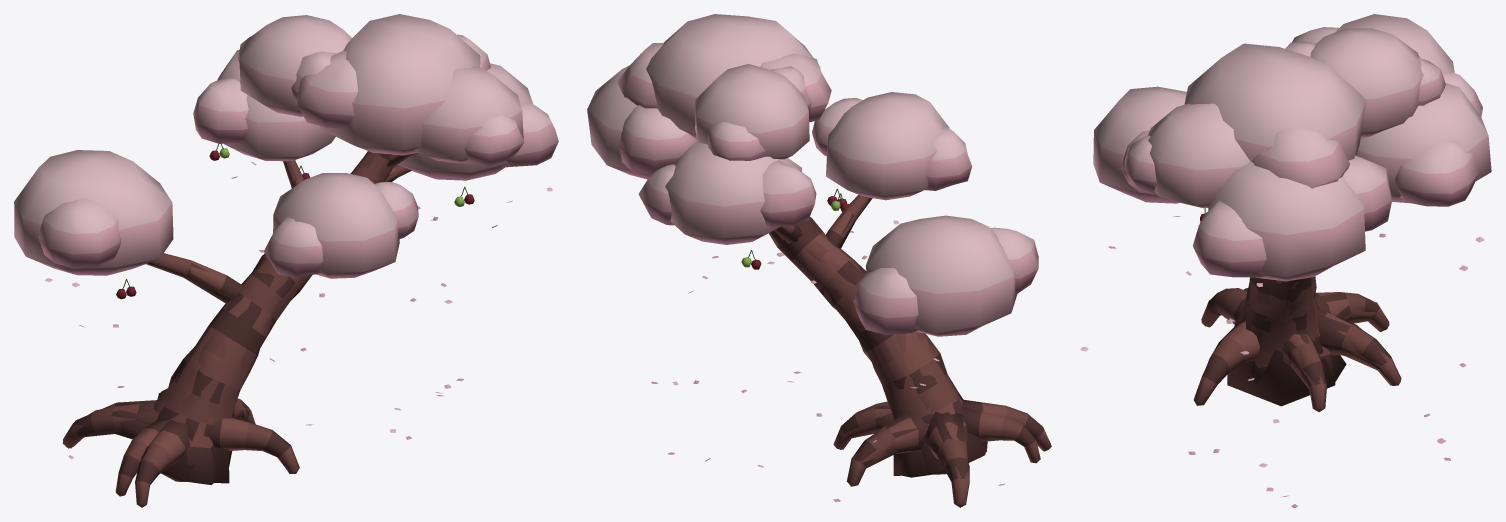
File: tree_cherry.glb
3 renders of one model, left to right at view 1: azimuth 30°, elevation 25°; view 2: azimuth 150°, elevation 25°; view 3: azimuth 270°, elevation 25°, orthographic. The views are drawn at different scales.
Parts seen in each view (by area): view 1: blossom__far_body_nl, blossom_body_nl, trunk, trunk__far_body_nl, cherries_body_nl; view 2: blossom__far_body_nl, blossom_body_nl, trunk, trunk__far_body_nl; view 3: blossom__far_body_nl, blossom_body_nl, trunk, trunk__far_body_nl.
Part boxes in pixels (left/top/right/bottom): blossom__far_body_nl: left=14, top=14, right=532, bottom=278; blossom_body_nl: left=38, top=34, right=558, bottom=458; trunk: left=63, top=151, right=416, bottom=507; trunk__far_body_nl: left=62, top=152, right=418, bottom=483; cherries_body_nl: left=116, top=143, right=474, bottom=299; blossom__far_body_nl: left=587, top=14, right=1017, bottom=336; blossom_body_nl: left=617, top=43, right=1038, bottom=501; trunk: left=769, top=195, right=1051, bottom=505; trunk__far_body_nl: left=770, top=195, right=987, bottom=507; blossom__far_body_nl: left=1093, top=14, right=1491, bottom=281; blossom_body_nl: left=1080, top=27, right=1484, bottom=507; trunk: left=1193, top=276, right=1398, bottom=410; trunk__far_body_nl: left=1227, top=277, right=1401, bottom=412.
Size of the model in its own units: 86.14 by 70.72 by 59.98.
